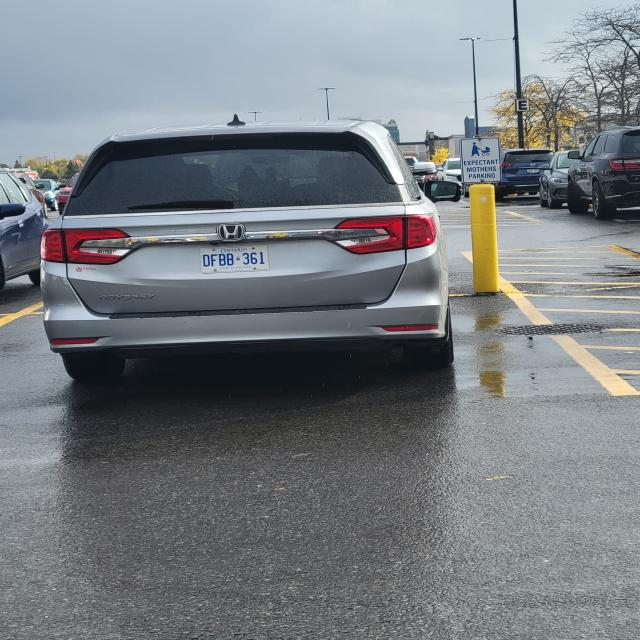plaque: (201, 245, 269, 273), (527, 169, 539, 173)
